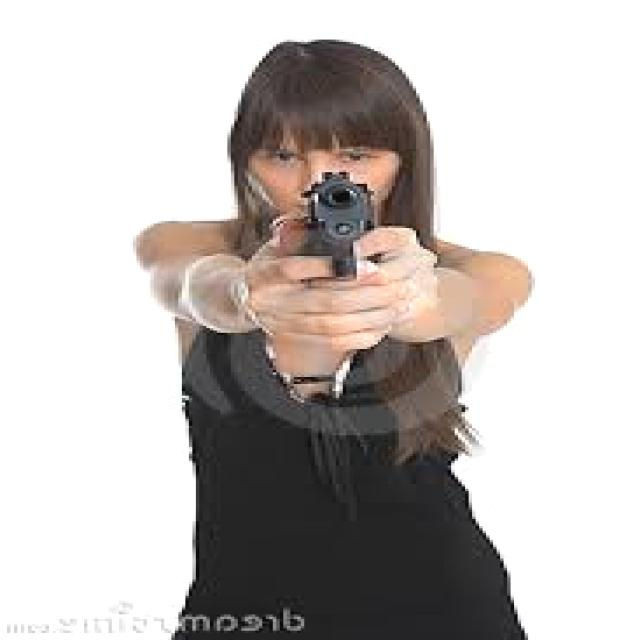pistol: (304, 163, 381, 288)
